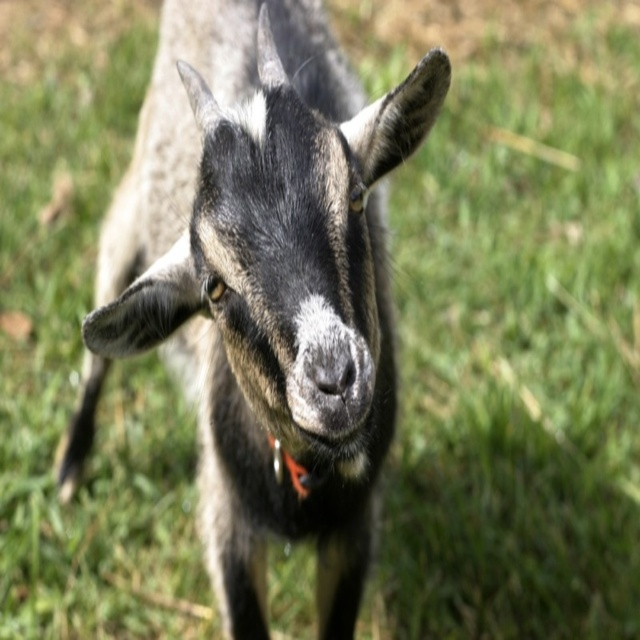Goat: (49, 0, 450, 639)
